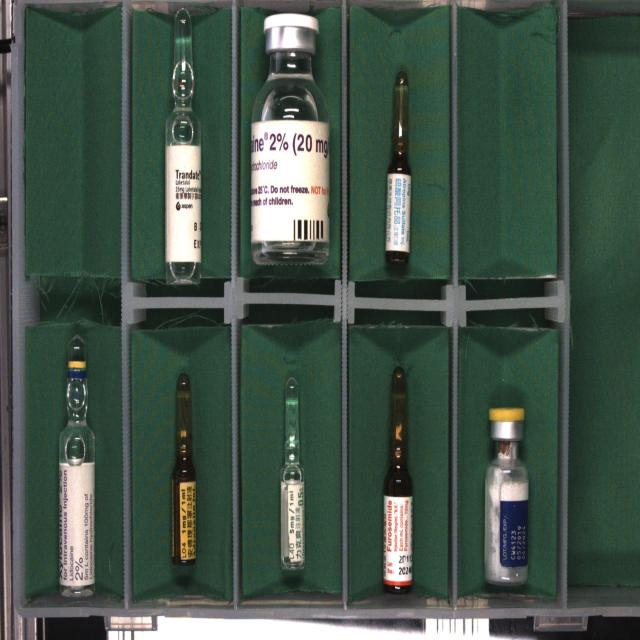Vials: (251, 13, 329, 265), (484, 406, 528, 586)
